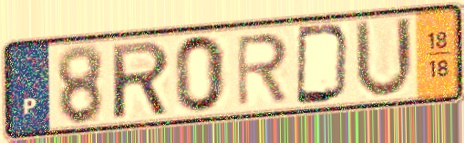0: (172, 33, 233, 116)
8: (54, 41, 107, 128)
D: (293, 22, 353, 107)
R: (108, 38, 173, 122), (234, 30, 291, 110)
U: (352, 14, 417, 102)
